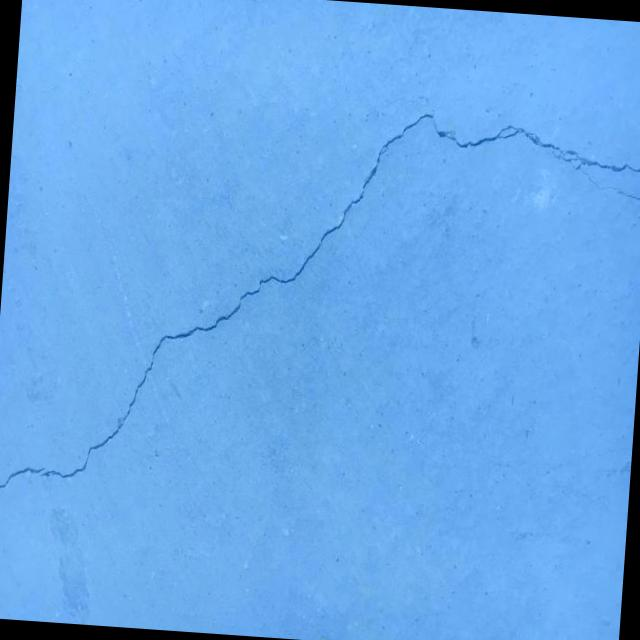crack: (0, 83, 640, 538)
